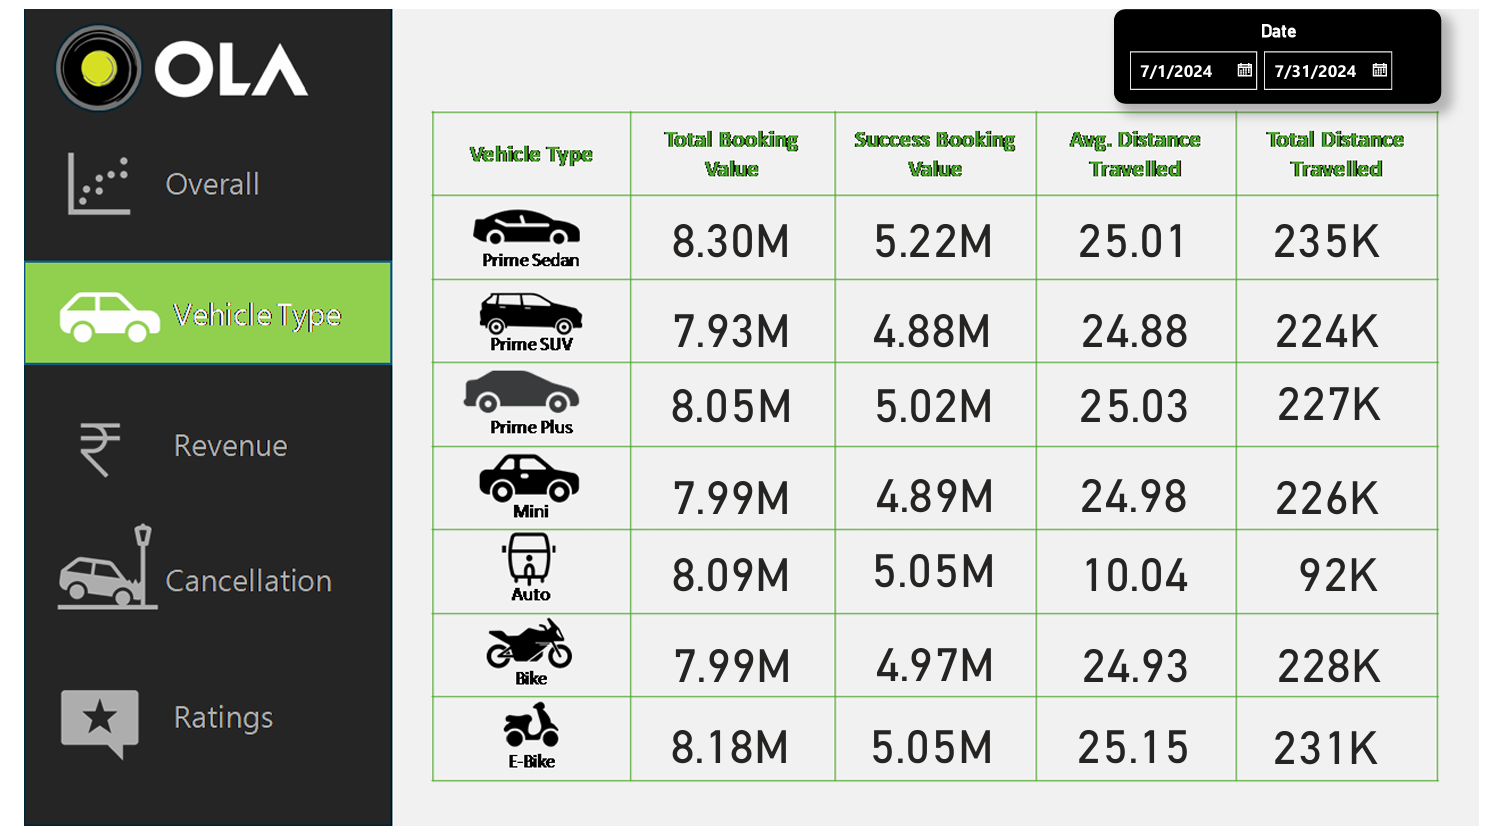

The page's visual inventory and layout, read from the dashboard file:
{"tool":"powerbi","page":{"name":"Vehicle Type","canvas":[1280,720],"ordinal":1},"visuals":[{"type":"actionButton","box":[0,326.1,324.5,98.6],"z":1},{"type":"actionButton","box":[0,437.4,324.5,111.3],"z":2},{"type":"actionButton","box":[4.8,564.7,314.9,141.6],"z":3},{"type":"actionButton","box":[0,112.9,324.5,85.9],"z":4},{"type":"card","fields":{"Values":["Sum(July.Booking_Value)"]},"box":[537.5,166.6,168.2,64.3],"z":5},{"type":"card","fields":{"Values":["Sum(July.Booking_Value)"]},"box":[537.6,246.5,168.6,63.6],"z":6},{"type":"card","fields":{"Values":["Sum(July.Booking_Value)"]},"box":[555.6,393.1,132.3,64.3],"z":7},{"type":"card","fields":{"Values":["Sum(July.Booking_Value)"]},"box":[555.6,461.1,132.3,64.3],"z":8},{"type":"card","fields":{"Values":["Sum(July.Booking_Value)"]},"box":[556.7,541.4,132.3,64.3],"z":9},{"type":"card","fields":{"Values":["Sum(July.Booking_Value)"]},"box":[554.5,612.4,132.3,64.3],"z":10},{"type":"card","fields":{"Values":["Sum(July.Booking_Value)"]},"box":[555.6,311.8,132.3,64.3],"z":11},{"type":"card","fields":{"Values":["Sum(July.Booking_Value)"]},"box":[733.3,167,132,63.6],"z":12},{"type":"card","fields":{"Values":["Sum(July.Booking_Value)"]},"box":[733.3,246.5,132,63.6],"z":13},{"type":"card","fields":{"Values":["Sum(July.Booking_Value)"]},"box":[733.2,311.8,132.3,64.3],"z":14},{"type":"card","fields":{"Values":["Sum(July.Booking_Value)"]},"box":[734.9,391.3,132,65.2],"z":15},{"type":"card","fields":{"Values":["Sum(July.Booking_Value)"]},"box":[733.2,457.3,132.3,64.3],"z":16},{"type":"card","fields":{"Values":["Sum(July.Booking_Value)"]},"box":[734.9,540.8,132,63.6],"z":17},{"type":"card","fields":{"Values":["Sum(July.Booking_Value)"]},"box":[732.2,612.4,132.3,64.3],"z":18},{"type":"card","fields":{"Values":["Avg(July.Ride_Distance)"]},"box":[909.8,167,132,63.6],"z":19},{"type":"card","fields":{"Values":["Avg(July.Ride_Distance)"]},"box":[911.4,246.5,132,63.6],"z":20},{"type":"card","fields":{"Values":["Avg(July.Ride_Distance)"]},"box":[910.9,311.8,132.3,64.3],"z":21},{"type":"card","fields":{"Values":["Avg(July.Ride_Distance)"]},"box":[909.8,391.3,132,65.2],"z":22},{"type":"card","fields":{"Values":["Avg(July.Ride_Distance)"]},"box":[910.9,461.1,132.3,64.3],"z":23},{"type":"card","fields":{"Values":["Avg(July.Ride_Distance)"]},"box":[911.9,541.4,132.3,64.3],"z":25},{"type":"card","fields":{"Values":["Avg(July.Ride_Distance)"]},"box":[909.8,612.4,132.3,64.3],"z":26},{"type":"card","fields":{"Values":["Sum(July.Ride_Distance)"]},"box":[1070.5,167,151.1,63.6],"z":27},{"type":"card","fields":{"Values":["Sum(July.Ride_Distance)"]},"box":[1080,246.5,132,63.6],"z":28},{"type":"card","fields":{"Values":["Sum(July.Ride_Distance)"]},"box":[1081.6,310.2,132,65.2],"z":29},{"type":"card","fields":{"Values":["Sum(July.Ride_Distance)"]},"box":[1080,392.9,132,65.2],"z":30},{"type":"card","fields":{"Values":["Sum(July.Ride_Distance)"]},"box":[1089.6,461.3,132,65.2],"z":31},{"type":"card","fields":{"Values":["Sum(July.Ride_Distance)"]},"box":[1081.6,540.8,132,65.2],"z":32},{"type":"card","fields":{"Values":["Sum(July.Ride_Distance)"]},"box":[1079,612.4,132,65.2],"z":33},{"type":"slicer","title":"Date","fields":{"Values":["July.Date"]},"box":[959.1,0,287.9,82.7],"z":34}]}

Visuals, with their boxes on the page's 1280x720 design canvas (x1, y1, x2, y2). These are canvas units, not pixel positions in the 1506x827 screenshot, which may show the page scaled, cropped or inside an application window:
actionButton: 0,326,324,425
actionButton: 0,437,324,549
actionButton: 5,565,320,706
actionButton: 0,113,324,199
card - Sum(July.Booking_Value): 538,167,706,231
card - Sum(July.Booking_Value): 538,246,706,310
card - Sum(July.Booking_Value): 556,393,688,457
card - Sum(July.Booking_Value): 556,461,688,525
card - Sum(July.Booking_Value): 557,541,689,606
card - Sum(July.Booking_Value): 554,612,687,677
card - Sum(July.Booking_Value): 556,312,688,376
card - Sum(July.Booking_Value): 733,167,865,231
card - Sum(July.Booking_Value): 733,246,865,310
card - Sum(July.Booking_Value): 733,312,866,376
card - Sum(July.Booking_Value): 735,391,867,456
card - Sum(July.Booking_Value): 733,457,866,522
card - Sum(July.Booking_Value): 735,541,867,604
card - Sum(July.Booking_Value): 732,612,864,677
card - Avg(July.Ride_Distance): 910,167,1042,231
card - Avg(July.Ride_Distance): 911,246,1043,310
card - Avg(July.Ride_Distance): 911,312,1043,376
card - Avg(July.Ride_Distance): 910,391,1042,456
card - Avg(July.Ride_Distance): 911,461,1043,525
card - Avg(July.Ride_Distance): 912,541,1044,606
card - Avg(July.Ride_Distance): 910,612,1042,677
card - Sum(July.Ride_Distance): 1070,167,1222,231
card - Sum(July.Ride_Distance): 1080,246,1212,310
card - Sum(July.Ride_Distance): 1082,310,1214,375
card - Sum(July.Ride_Distance): 1080,393,1212,458
card - Sum(July.Ride_Distance): 1090,461,1222,526
card - Sum(July.Ride_Distance): 1082,541,1214,606
card - Sum(July.Ride_Distance): 1079,612,1211,678
"Date" slicer: 959,0,1247,83
